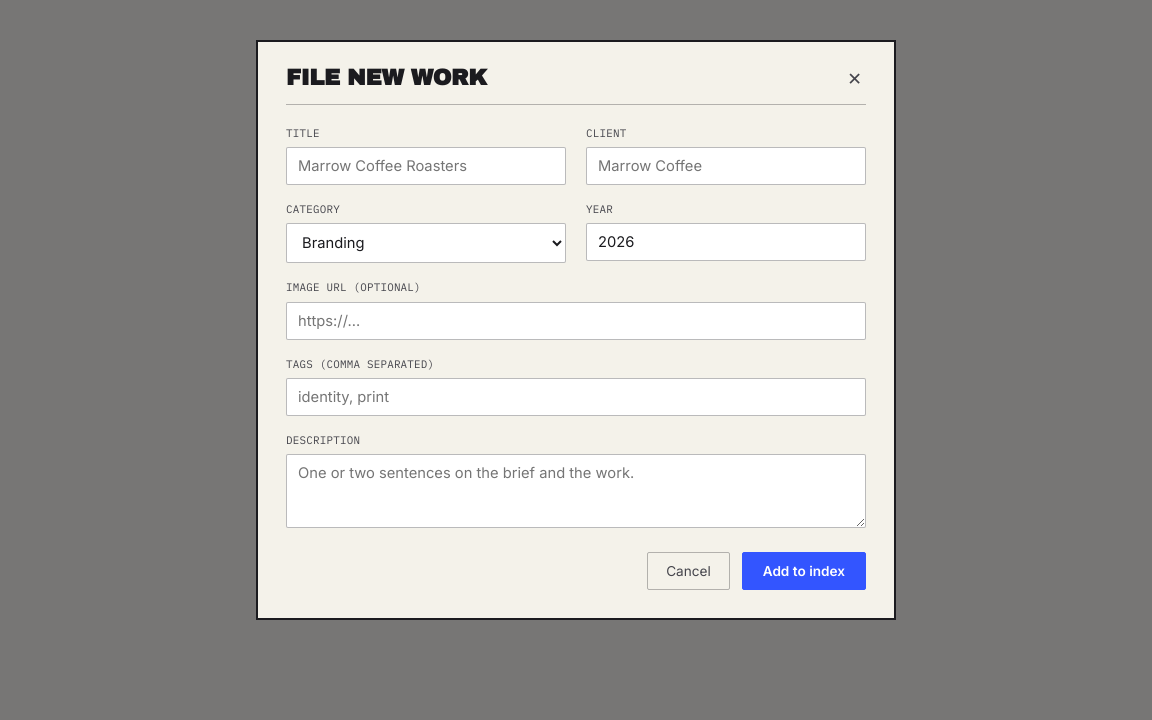
Scenario: ProjectForm › shows validation errors and does not submit when required fields are empty
What coordinates should you click on to do the following:
click the button "Add to index"
I would click on:
 (804, 571)
Its box is [742,552,866,590].
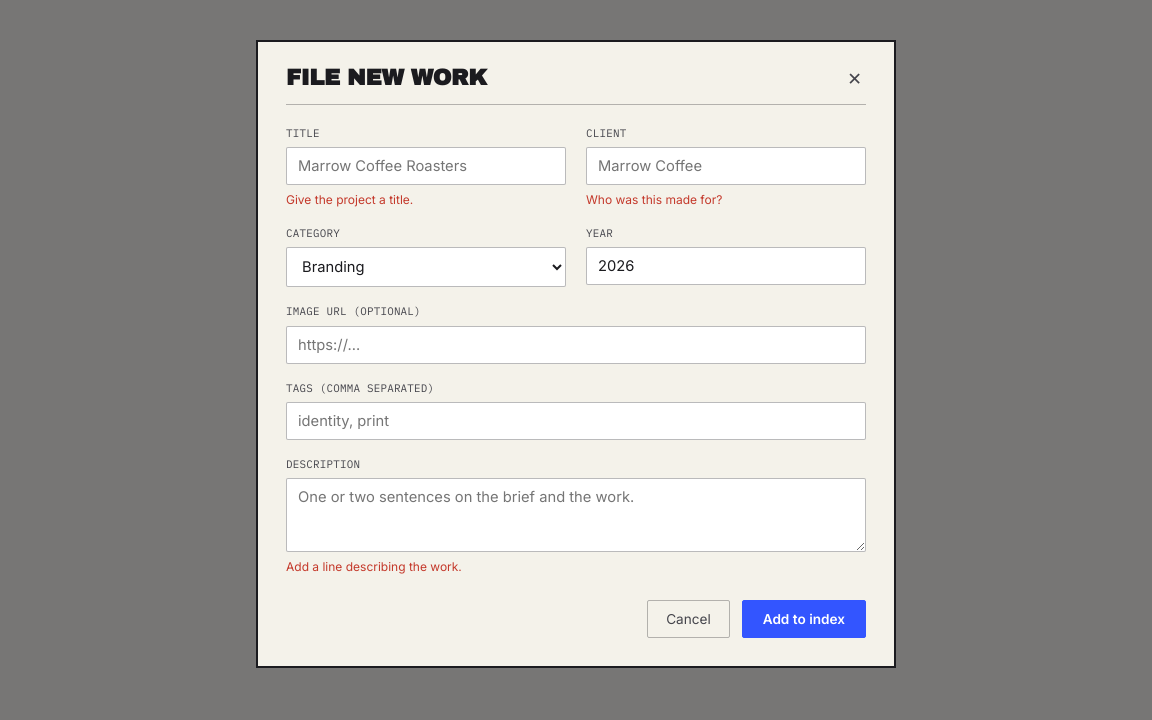
expect the text "Give the project a title." is shown: met, box [286,192,413,207]
